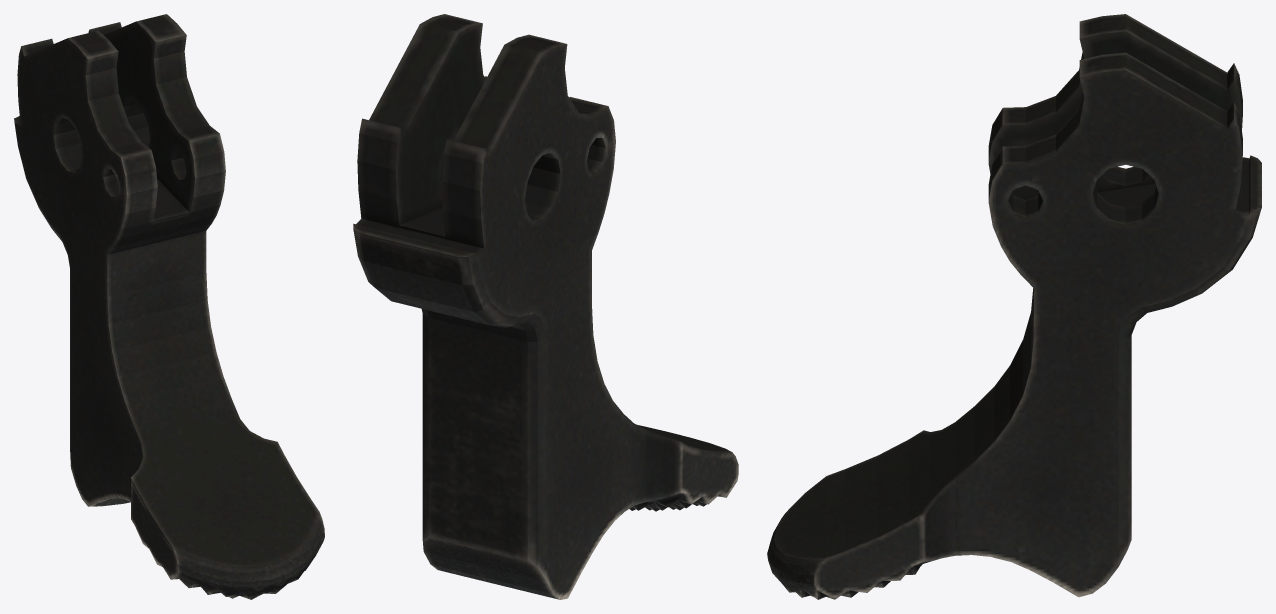
3 views of the same model, side by side, from view 1: azimuth 30°, elevation 25°; view 2: azimuth 150°, elevation 25°; view 3: azimuth 270°, elevation 25° (orthographic). The views are drawn at different scales.
Visible parts, largest first — view 1: TW_5e81c550763d9f754677befd_PZ_Import; view 2: TW_5e81c550763d9f754677befd_PZ_Import; view 3: TW_5e81c550763d9f754677befd_PZ_Import.
Part boxes in pixels (left/top/right/bottom): TW_5e81c550763d9f754677befd_PZ_Import: left=14, top=14, right=324, bottom=599; TW_5e81c550763d9f754677befd_PZ_Import: left=353, top=14, right=738, bottom=599; TW_5e81c550763d9f754677befd_PZ_Import: left=767, top=14, right=1261, bottom=599.
Bounding box in the file's own units: 0.00673 × 0.0169 × 0.0205.
1 material, 1 textured.
